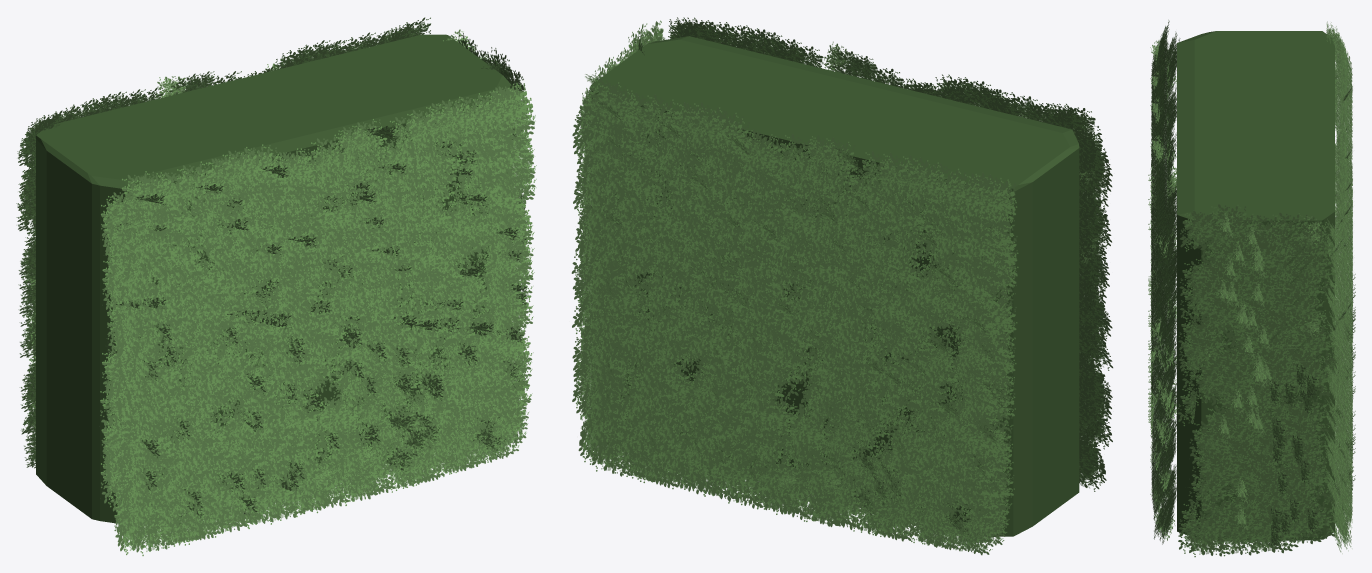
File: Arbusto_direita (1).gltf
3 renders of one model, left to right at view 1: azimuth 30°, elevation 25°; view 2: azimuth 150°, elevation 25°; view 3: azimuth 270°, elevation 25°, orthographic. The views are drawn at different scales.
Parts seen in each view (by area): view 1: Fim esquerda; view 2: Fim esquerda; view 3: Fim esquerda.
Part boxes in pixels (left/top/right/bottom): Fim esquerda: left=16, top=17, right=536, bottom=555; Fim esquerda: left=571, top=17, right=1113, bottom=555; Fim esquerda: left=1148, top=20, right=1355, bottom=557.
Bounding box in the file's own units: 4.13 × 3.34 × 1.79.
Materials: 2 (1 with a texture image).
